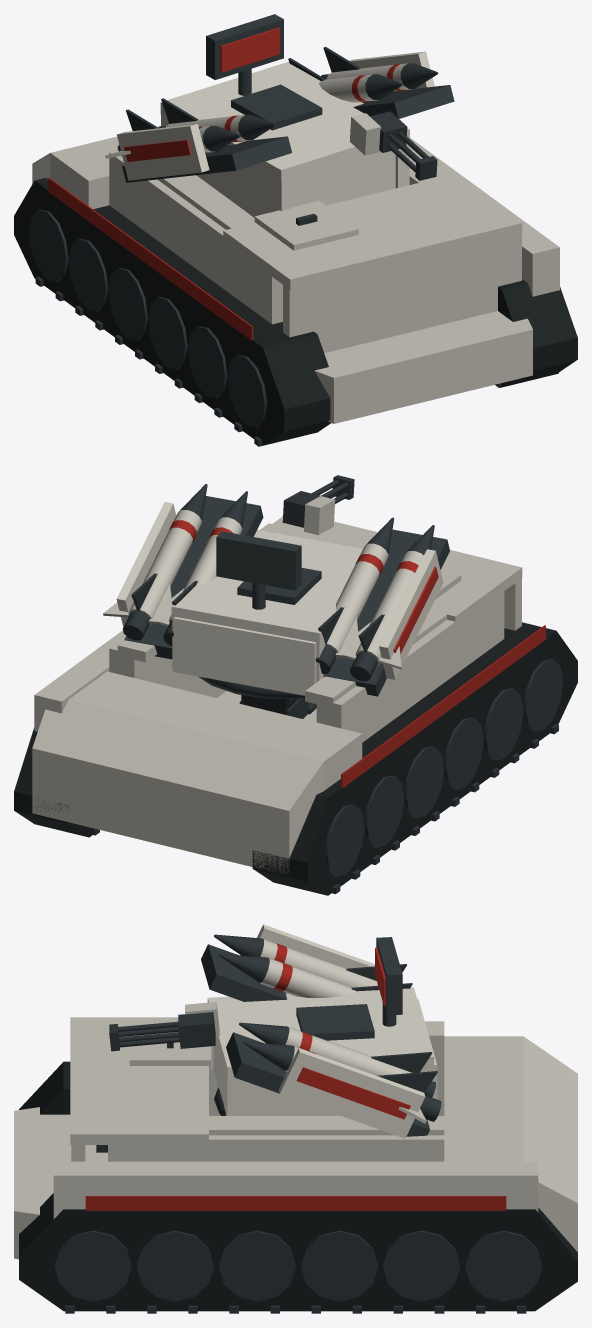
3 renders of one model, top to bottom at view 1: azimuth 30°, elevation 25°; view 2: azimuth 150°, elevation 25°; view 3: azimuth 270°, elevation 25°, orthographic. The views are drawn at different scales.
Visible parts, largest first — view 1: aa-tank-painted, turret-fleet-armor, launcher-left-fleet-armor, breakaway-1-painted, turret-fleet-machine, launcher-left-fleet-machine, radar-fleet-machine, launcher-right-fleet-machine, store-tank-1-0.23-painted, store-tank-1--0.23-painted, machine-gun-pitch-roof-painted, store-tank--1-0.23-painted (+5 smaller); view 2: aa-tank-painted, turret-fleet-armor, store-tank-1-0.23-painted, radar-fleet-machine, store-tank--1-0.23-painted, store-tank--1--0.23-painted, launcher-left-fleet-machine, launcher-right-fleet-machine, launcher-left-fleet-armor, breakaway-1-painted, store-tank-1--0.23-painted, launcher-right-fleet-armor (+5 smaller); view 3: aa-tank-painted, breakaway-1-painted, turret-fleet-armor, launcher-right-fleet-armor, store-tank-1--0.23-painted, store-tank--1-0.23-painted, store-tank--1--0.23-painted, turret-fleet-machine, launcher-left-fleet-machine, launcher-right-fleet-machine, store-tank-1-0.23-painted, launcher-right-fleet-red (+4 smaller).
Boxes of the visible parts, left/top/right/bottom form: aa-tank-painted: left=14, top=126, right=577, bottom=446; turret-fleet-armor: left=160, top=61, right=409, bottom=216; launcher-left-fleet-armor: left=117, top=124, right=209, bottom=180; breakaway-1-painted: left=410, top=138, right=559, bottom=296; turret-fleet-machine: left=231, top=68, right=322, bottom=130; launcher-left-fleet-machine: left=122, top=136, right=291, bottom=182; radar-fleet-machine: left=206, top=14, right=283, bottom=79; launcher-right-fleet-machine: left=353, top=85, right=454, bottom=118; store-tank-1-0.23-painted: left=321, top=47, right=438, bottom=91; store-tank-1--0.23-painted: left=288, top=58, right=402, bottom=102; machine-gun-pitch-roof-painted: left=349, top=111, right=407, bottom=155; store-tank--1-0.23-painted: left=158, top=98, right=275, bottom=142; aa-tank-painted: left=14, top=516, right=577, bottom=895; turret-fleet-armor: left=171, top=529, right=362, bottom=695; store-tank-1-0.23-painted: left=103, top=484, right=207, bottom=640; radar-fleet-machine: left=216, top=531, right=301, bottom=590; store-tank--1-0.23-painted: left=315, top=517, right=394, bottom=673; store-tank--1--0.23-painted: left=335, top=525, right=434, bottom=681; launcher-left-fleet-machine: left=323, top=529, right=449, bottom=696; launcher-right-fleet-machine: left=124, top=496, right=263, bottom=659; launcher-left-fleet-armor: left=379, top=549, right=443, bottom=679; breakaway-1-painted: left=34, top=523, right=271, bottom=731; store-tank-1--0.23-painted: left=149, top=491, right=247, bottom=646; launcher-right-fleet-armor: left=116, top=502, right=176, bottom=626; aa-tank-painted: left=14, top=1017, right=577, bottom=1313; breakaway-1-painted: left=53, top=1161, right=538, bottom=1219; turret-fleet-armor: left=207, top=987, right=437, bottom=1115; launcher-right-fleet-armor: left=278, top=1048, right=425, bottom=1138; store-tank-1--0.23-painted: left=239, top=1022, right=435, bottom=1097; store-tank--1-0.23-painted: left=219, top=953, right=412, bottom=997; store-tank--1--0.23-painted: left=214, top=934, right=406, bottom=987; turret-fleet-machine: left=296, top=1002, right=396, bottom=1040; launcher-left-fleet-machine: left=201, top=944, right=287, bottom=1001; launcher-right-fleet-machine: left=226, top=1032, right=429, bottom=1136; store-tank-1-0.23-painted: left=244, top=1041, right=441, bottom=1123; launcher-right-fleet-red: left=296, top=1067, right=410, bottom=1119.
Bounding box in the file's own units: 21.39 × 18.35 × 33.68.
